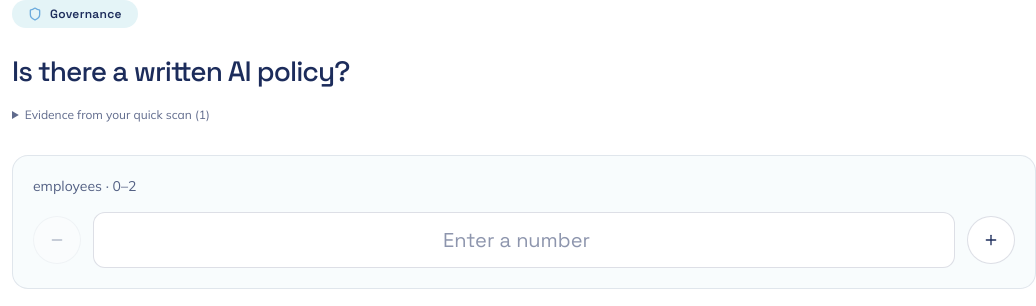
QuestionCard interactions › starts number inputs empty and supports zero, typing, clearing, and bounded controls
The width and height of the screenshot is (1036, 306).
Expected: the number field is empty, [93, 212, 955, 268]
Expected: the button named "Decrease value" is disabled, [33, 216, 81, 264]
Click the button named "Increase value" at (991, 240), box [967, 216, 1015, 264]
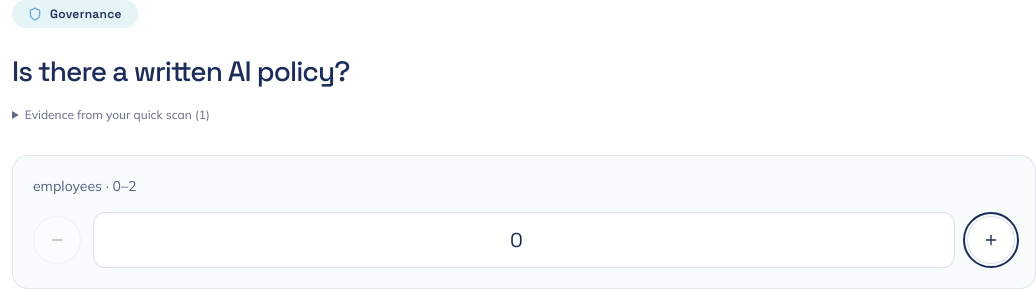
Now the number field holds "0"
Clear the number field at (524, 240), box [93, 212, 955, 268]
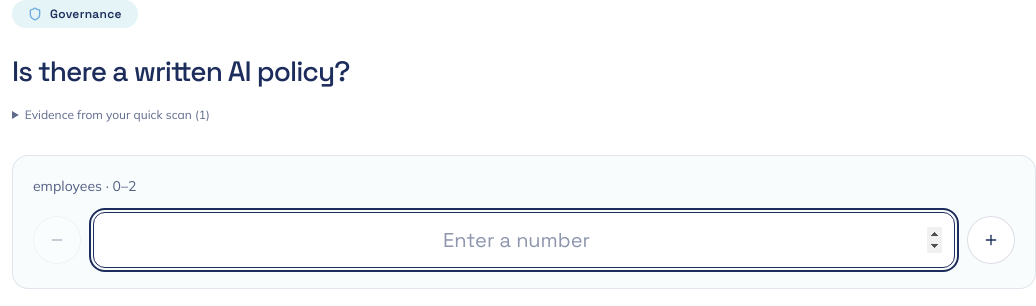
Type "2" into the number field at (524, 240), box [93, 212, 955, 268]
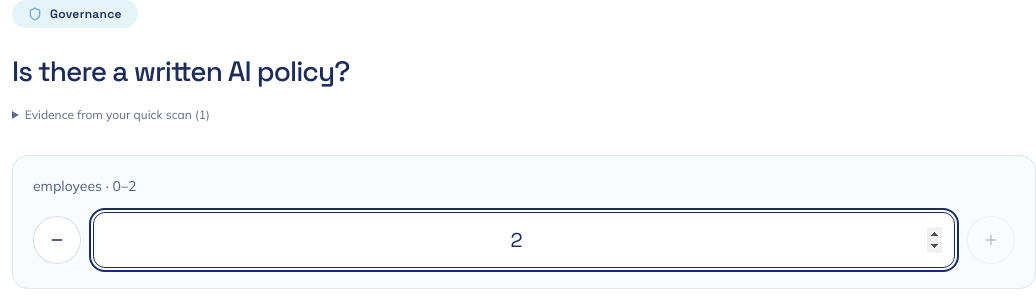
Now the button named "Increase value" is disabled, box [967, 216, 1015, 264]
Click the button named "Decrease value" at (57, 240), box [33, 216, 81, 264]
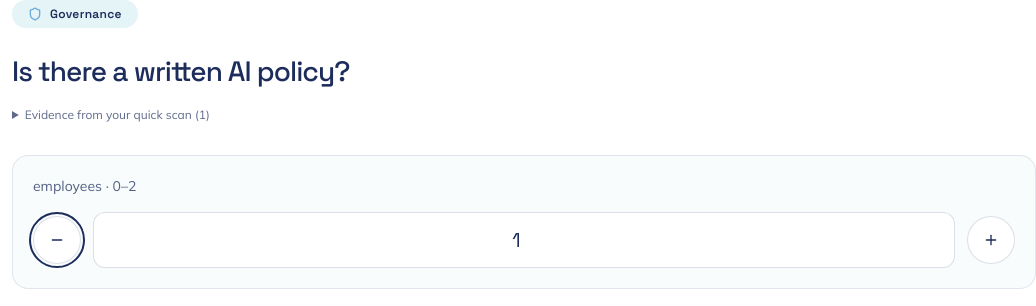
Now the number field holds "1", box [93, 212, 955, 268]
